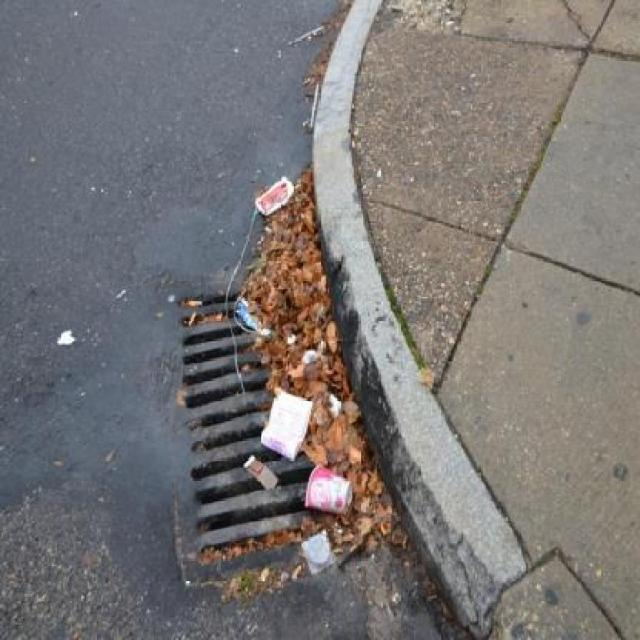garbage: (252, 388, 314, 462), (300, 457, 356, 520), (254, 171, 303, 216), (296, 528, 339, 570)
